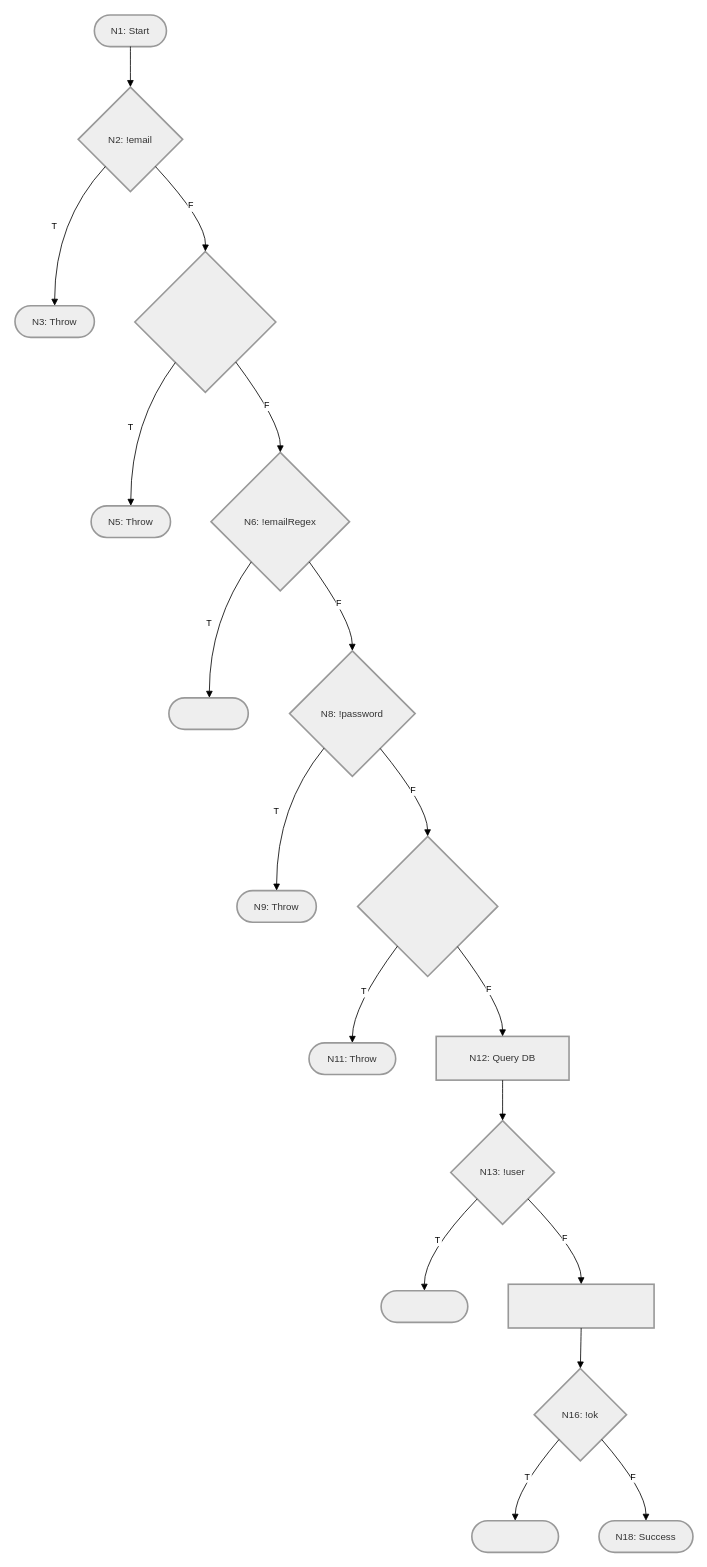
The diagram is 707 pixels wide and 1567 high, and some of its shapes have lost their labels. The centre of each missing label's shape, as x and y in pixels:
N10: pass.length: [427,906]
N14: Throw: [424,1306]
N15: Check Hash: [580,1305]
N17: Throw: [515,1536]
N4: email.length: [205,321]
N7: Throw: [208,713]
